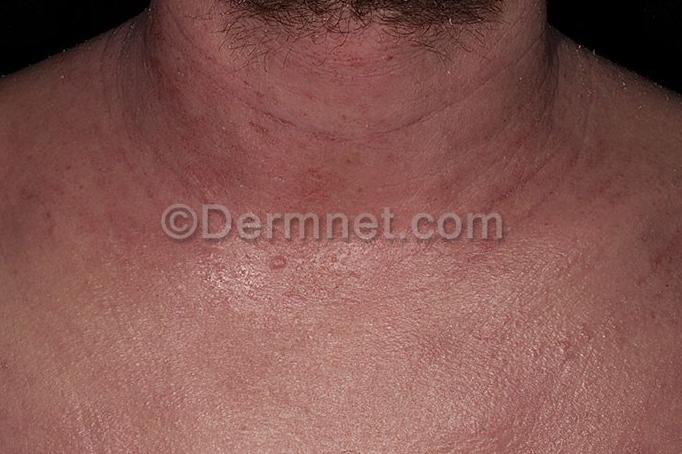Eritema 2: (0, 0, 682, 252)
exudacion 1: (135, 20, 576, 167)
xerosis 1: (0, 6, 142, 102), (561, 32, 682, 115)
